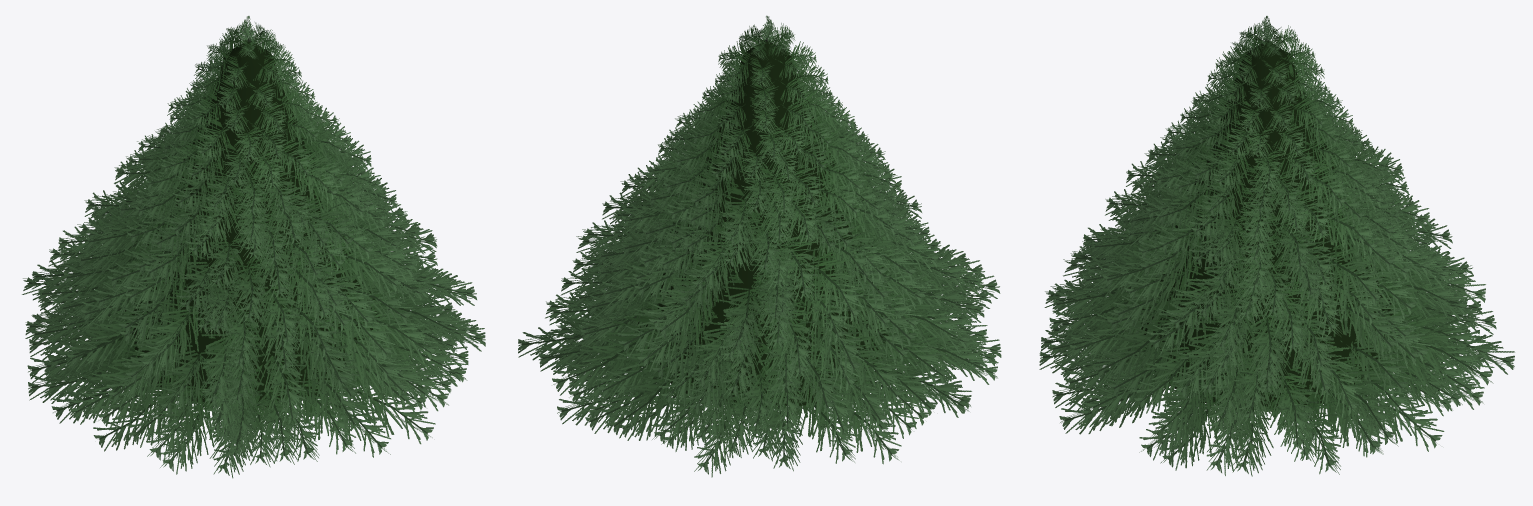
The model's file is AraTree10.glb.
The picture shows the model from 3 angles, left to right: view 1: azimuth 30°, elevation 25°; view 2: azimuth 150°, elevation 25°; view 3: azimuth 270°, elevation 25°; orthographic projection.
Visible parts, largest first — view 1: AraTree10_needles; view 2: AraTree10_needles; view 3: AraTree10_needles.
Part boxes in pixels (x1,y1,x2,y2): AraTree10_needles: [22, 16, 485, 478]; AraTree10_needles: [518, 15, 1001, 477]; AraTree10_needles: [1039, 16, 1514, 476].
Bounding box in the file's own units: 6.62 × 5.81 × 6.55.
3 materials, 2 textured.
